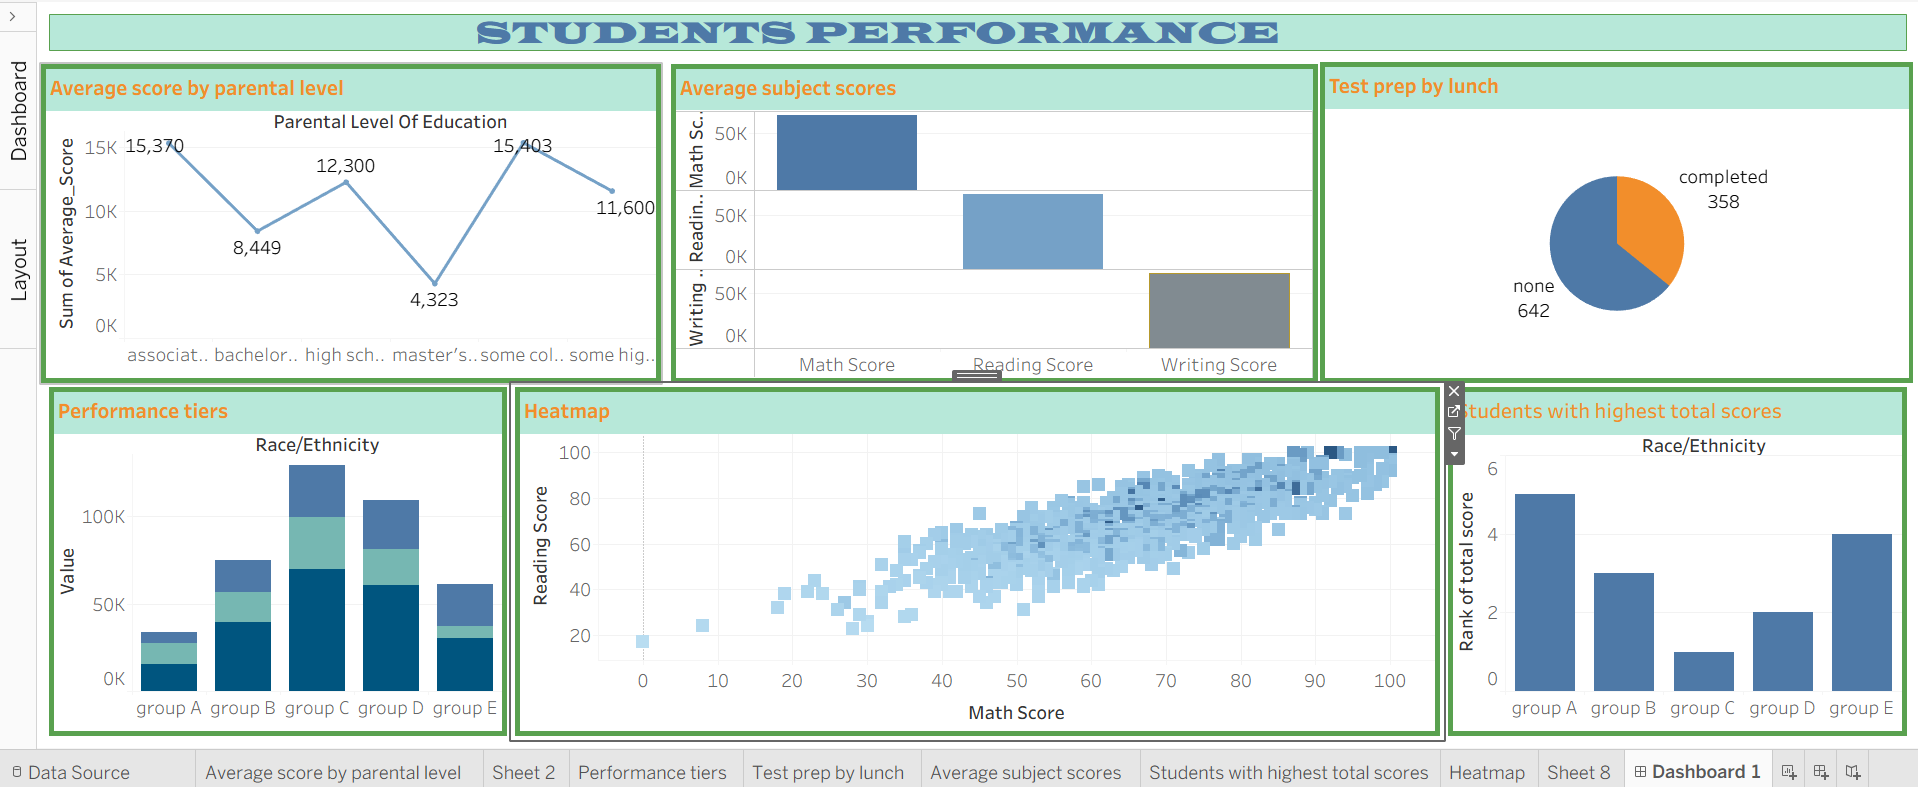

This screenshot's page, from the dashboard's own definition file:
{"tool":"tableau","page":{"name":"Dashboard 1","canvas":[1000,1000],"units":"permille","ordinal":0},"visuals":[{"type":"title","box":[4.2,10.7,991.5,60.3]},{"type":"worksheet","title":"Test prep by lunch","mark":"Pie","box":[681.9,79.9,315.8,430.7]},{"type":"worksheet","title":"Average score by parental level","mark":"Line","rows":["Calculation_229120684847370240"],"cols":["parental level of education"],"box":[2.3,83.7,329.2,427]},{"type":"worksheet","title":"Average subject scores","mark":"Bar","rows":["math score","reading score","writing score"],"box":[336.9,83.7,343.9,428.2]},{"type":"worksheet","title":"Performance tiers","mark":"Bar","cols":["race/ethnicity"],"box":[4.2,510.5,247.8,478.7]},{"type":"worksheet","title":"Heatmap","mark":"Square","rows":["reading score"],"cols":["math score"],"box":[252.1,510.5,495.7,478.7]},{"type":"worksheet","title":"Students with highest total scores","mark":"Automatic","rows":["Calculation_1673087315499036672"],"cols":["race/ethnicity"],"box":[747.8,510.5,247.9,478.7]}]}

Visuals, with their boxes on the dashboard's canvas, which has no fixed pixel size, in thousandths of its width and height (x1, y1, x2, y2). These are canvas units, not pixel positions in the 1918x787 screenshot, which may show the page scaled, cropped or inside an application window:
title: [4,11,996,71]
"Test prep by lunch" worksheet (Pie marks): [682,80,998,511]
"Average score by parental level" worksheet (Line marks): [2,84,332,511]
"Average subject scores" worksheet (Bar marks): [337,84,681,512]
"Performance tiers" worksheet (Bar marks): [4,510,252,989]
"Heatmap" worksheet (Square marks): [252,510,748,989]
"Students with highest total scores" worksheet: [748,510,996,989]
